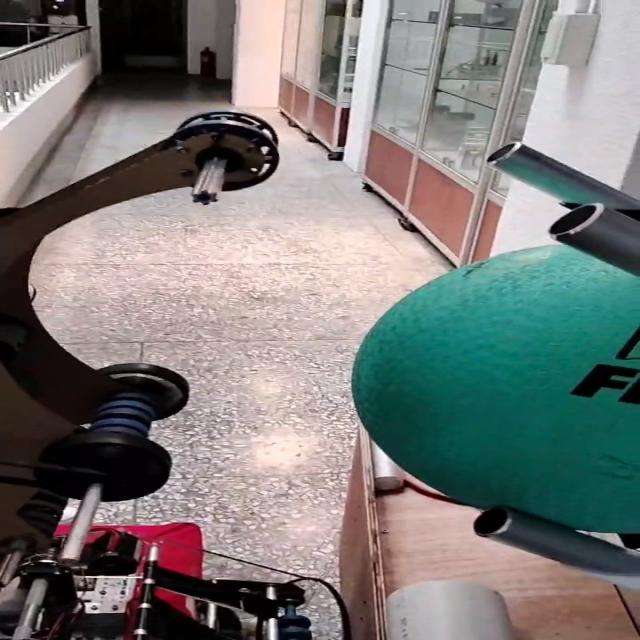ALGAE: (344, 244, 640, 534)
